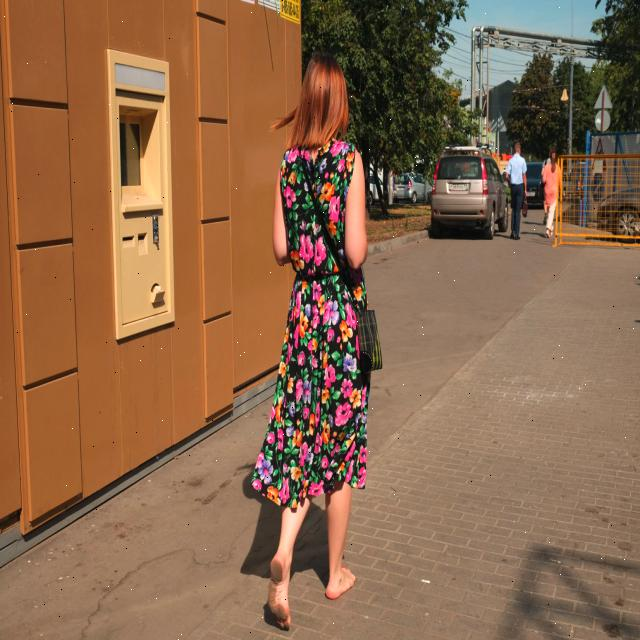No Safety Boots: (268, 553, 291, 629), (325, 566, 356, 599)
